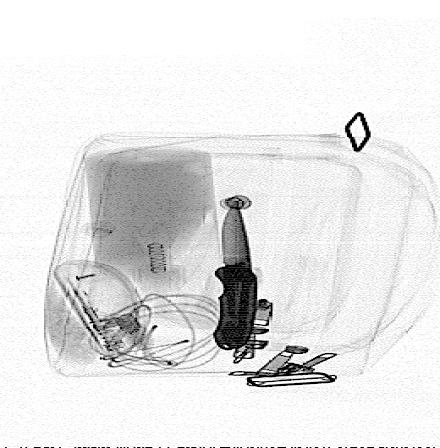Knife: (209, 198, 261, 351)
